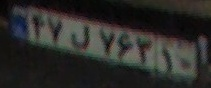character: (69, 22, 95, 52), (134, 33, 154, 69), (95, 28, 117, 59), (46, 14, 66, 48), (117, 28, 134, 66), (160, 45, 179, 75), (30, 10, 46, 45), (179, 52, 194, 73)
